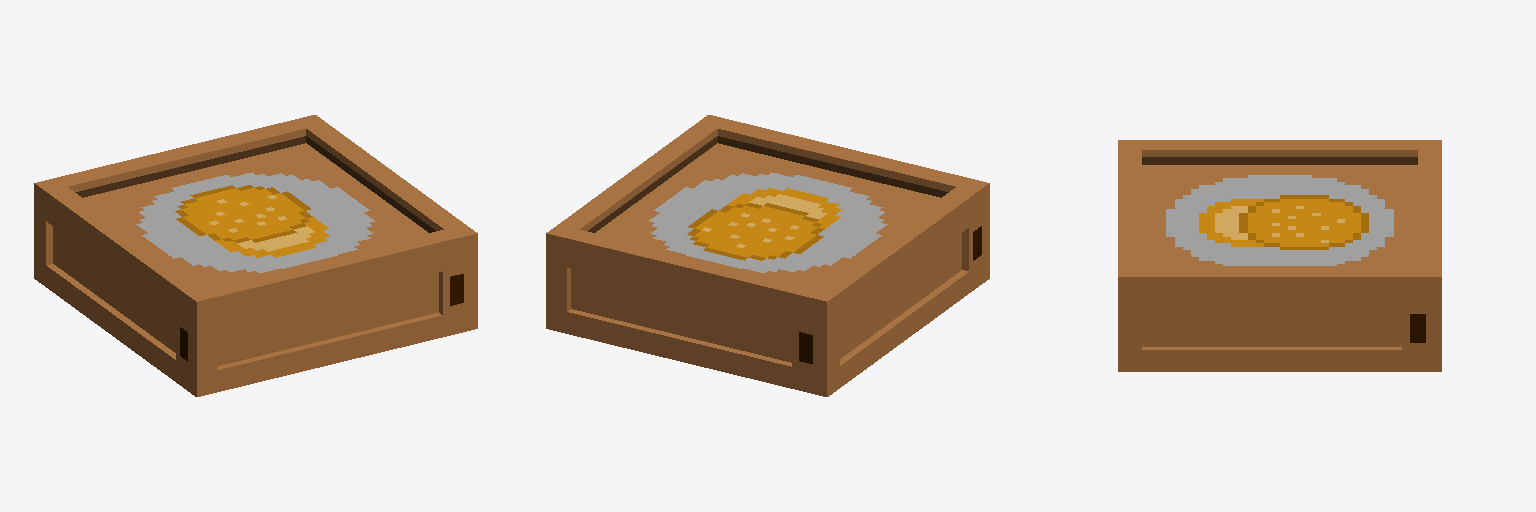
3 renders of one model, left to right at view 1: azimuth 30°, elevation 25°; view 2: azimuth 150°, elevation 25°; view 3: azimuth 270°, elevation 25°, orthographic.
Parts seen in each view (by area): view 1: object 1; view 2: object 1; view 3: object 1.
Boxes of the visible parts, x1=… form: object 1: x1=34, y1=115, x2=477, y2=396; object 1: x1=546, y1=115, x2=989, y2=396; object 1: x1=1118, y1=140, x2=1441, y2=371.
Bounding box in the file's own units: 4 × 1.3 × 4.
Materials: 1 (1 with a texture image).